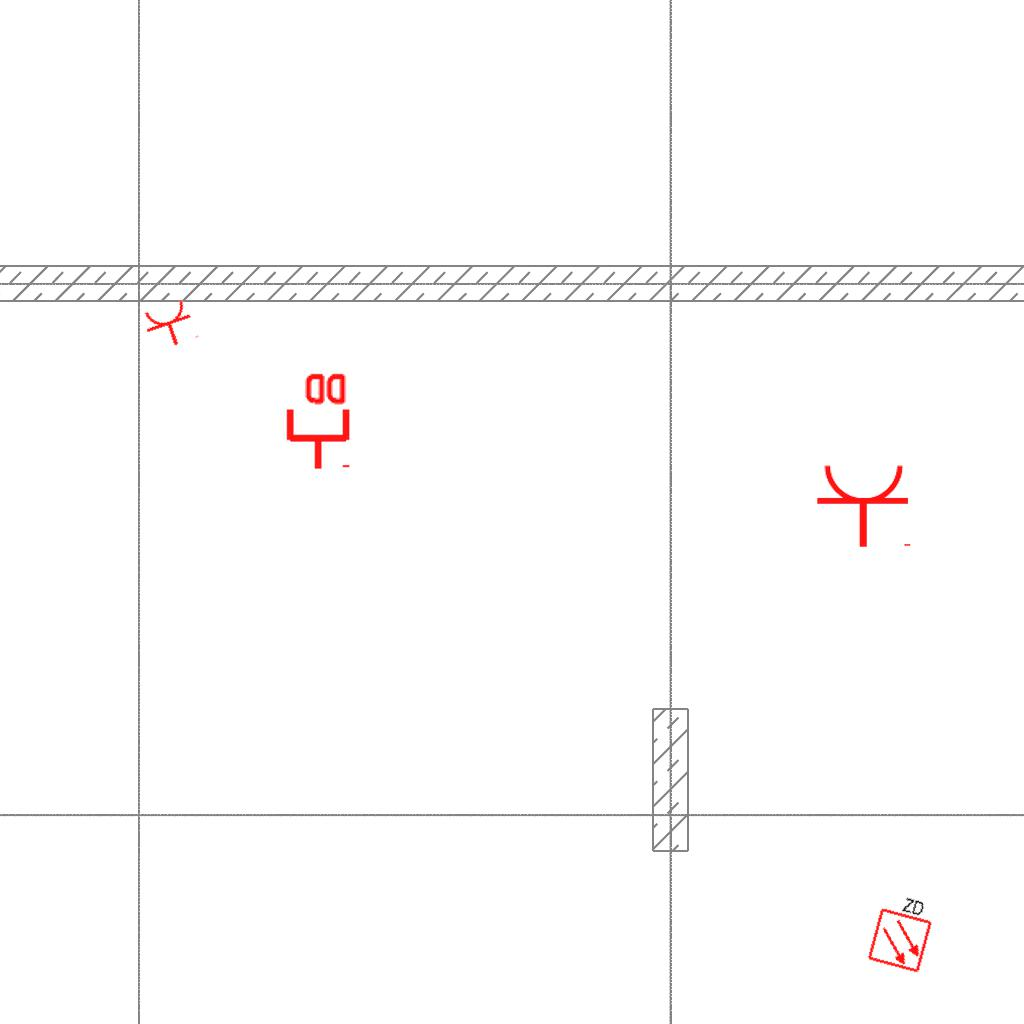Datenanschluss_zweifach: (282, 369, 351, 472)
Schukosteckdose_einfach: (815, 462, 915, 549), (139, 296, 202, 354)
ZD_Melder_in_Zwischendecke_mit_Revisionsoeffnung_mind_40_x_40_cm: (864, 887, 939, 975)
